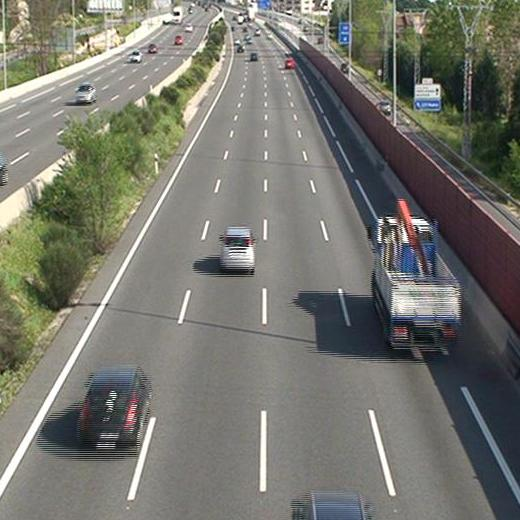car: (78, 371, 146, 443), (220, 229, 253, 270), (284, 58, 294, 68)
small-truck: (371, 219, 461, 348)
